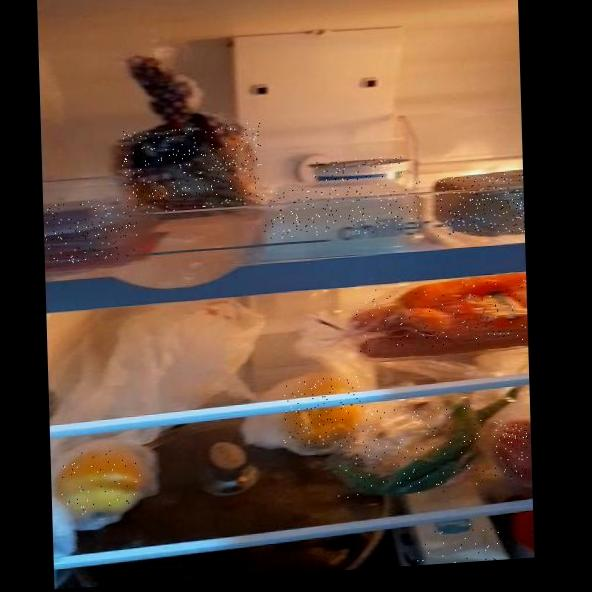bread: (121, 122, 262, 214)
butter: (436, 173, 525, 237)
carrot: (354, 278, 528, 355)
cheese: (263, 181, 422, 240)
green chilies: (335, 404, 484, 499)
lemon: (57, 448, 143, 516), (282, 376, 364, 447)
milk: (410, 520, 506, 566)
salami: (43, 198, 138, 265)
tomato: (493, 419, 532, 479)
yoghurt: (312, 155, 411, 183)
